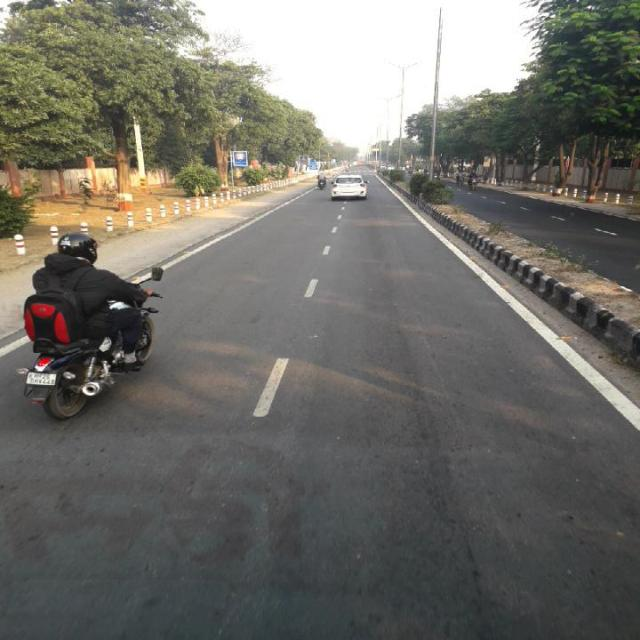pothole: (406, 290, 518, 550)
